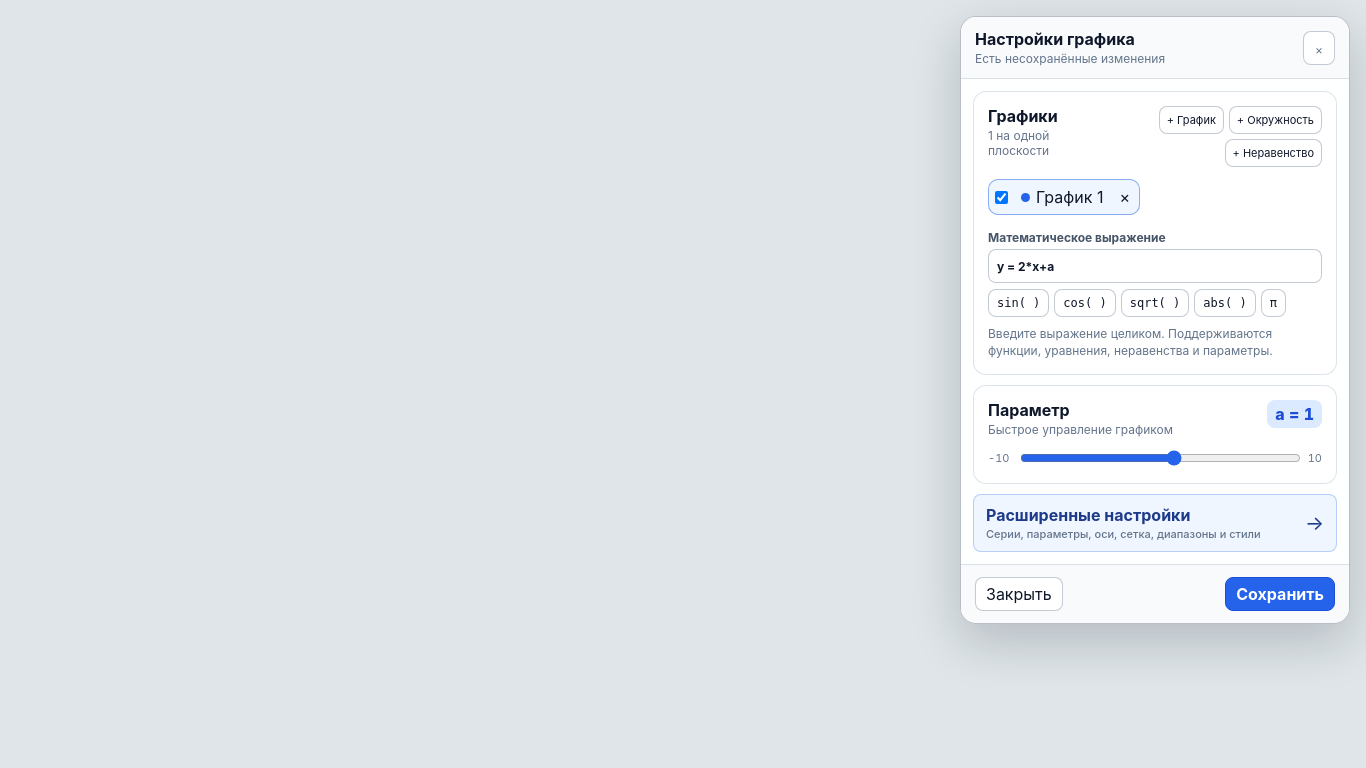
CoordinatePlotEditorPanel › supports WAI-ARIA tabs and localized enum values
This screenshot has width=1366, height=768.
Step 1. Click the button "Расширенные настройки" → (1155, 523), box x1=973 y1=494 x2=1337 y2=552
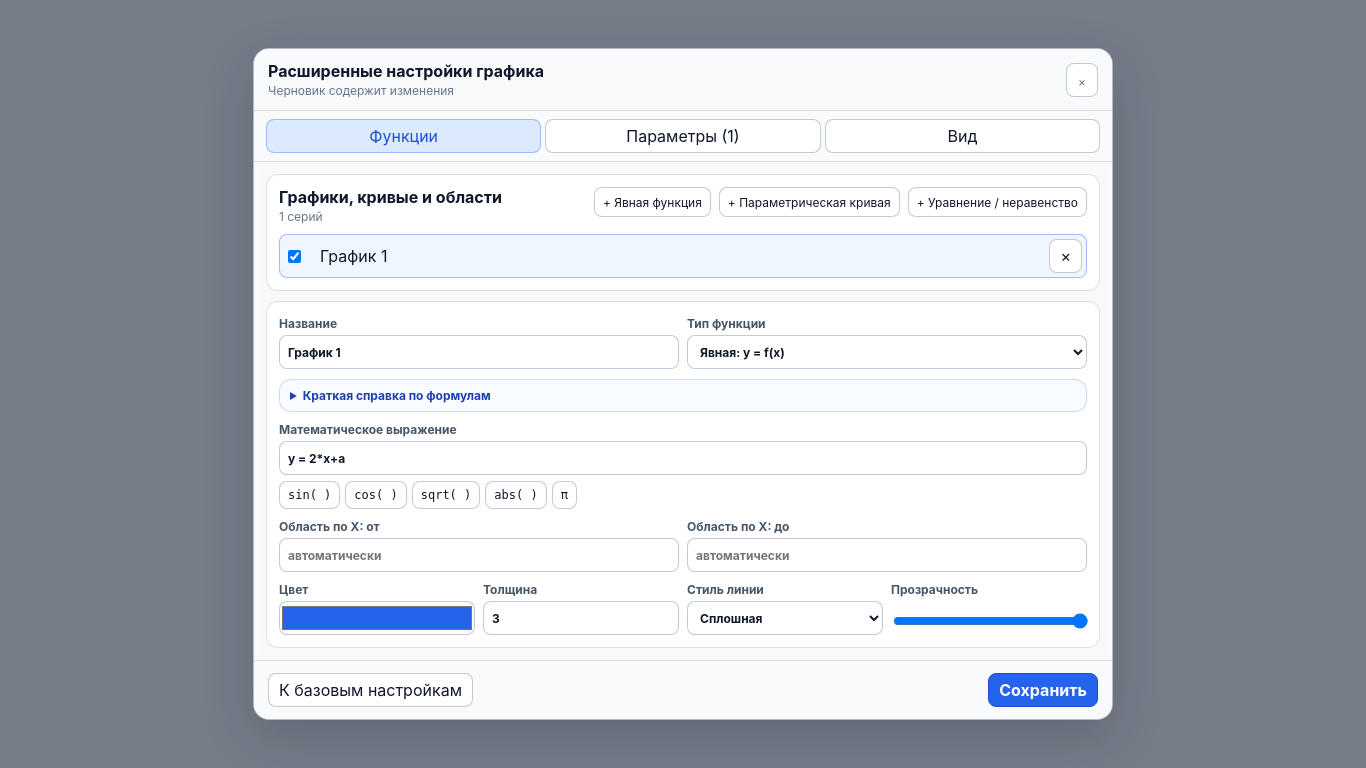
Step 2. Press ArrowRight in the tab "Функции", box x1=266 y1=119 x2=541 y2=153
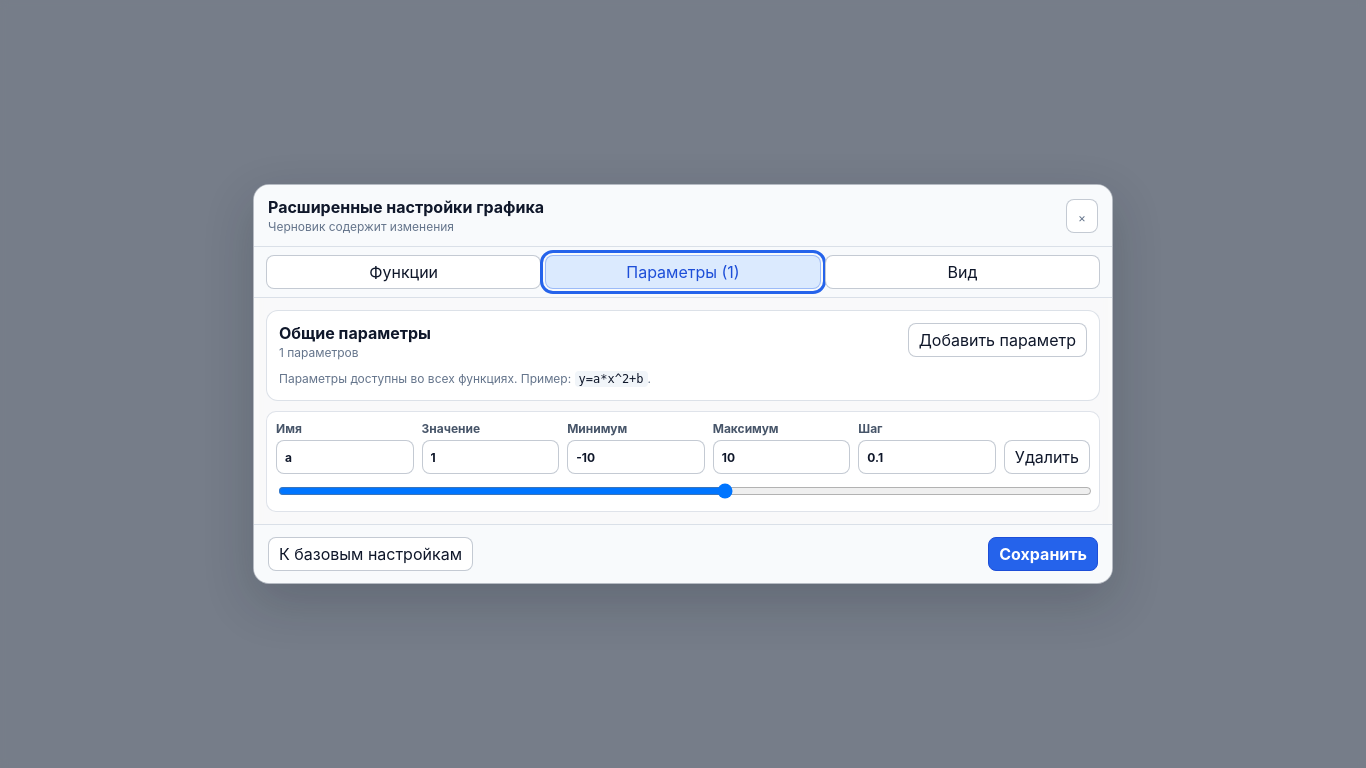
Check: the tab "Параметры (1)" is selected
Step 3. Press End in the tab "Параметры (1)", box x1=545 y1=255 x2=821 y2=289
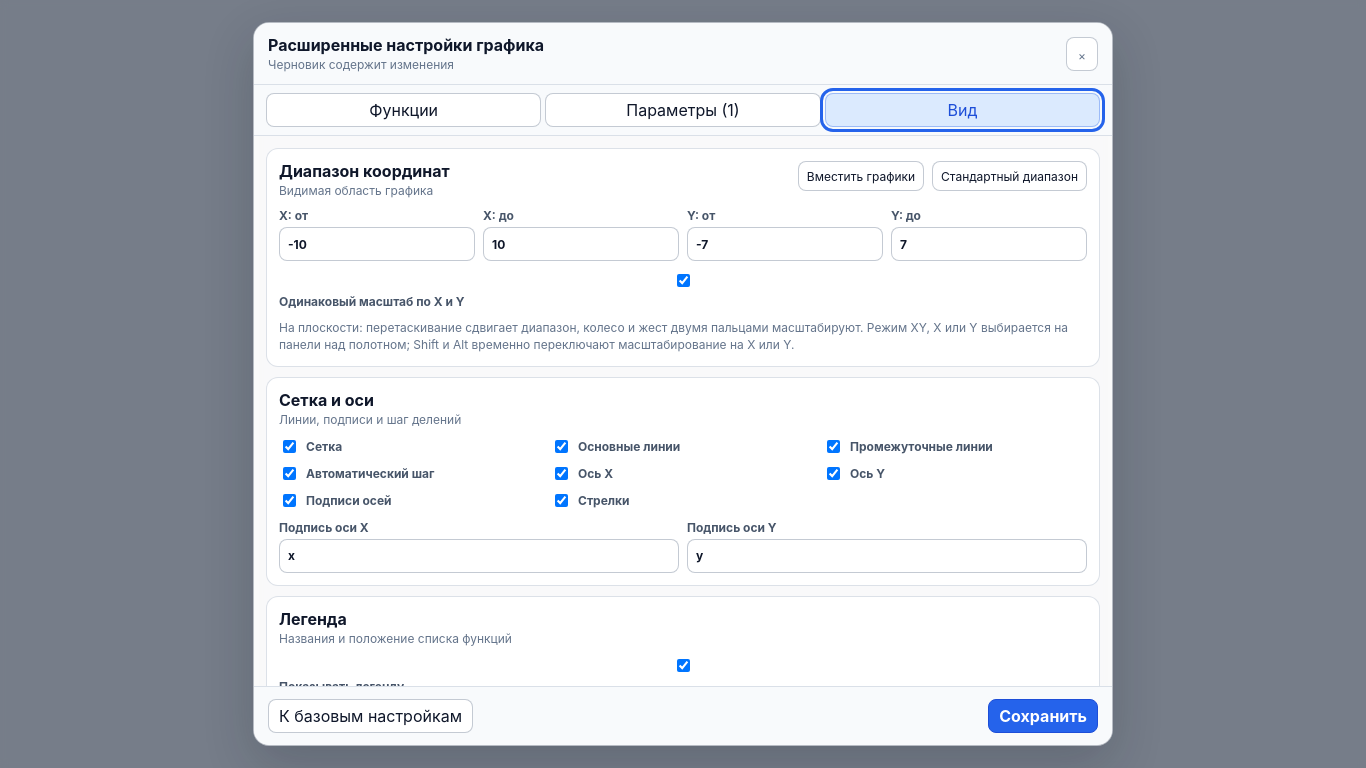
Check: the tab "Вид" is selected, box x1=825 y1=93 x2=1100 y2=127
Step 4. Click the tab "Функции" → (404, 110), box x1=266 y1=93 x2=541 y2=127
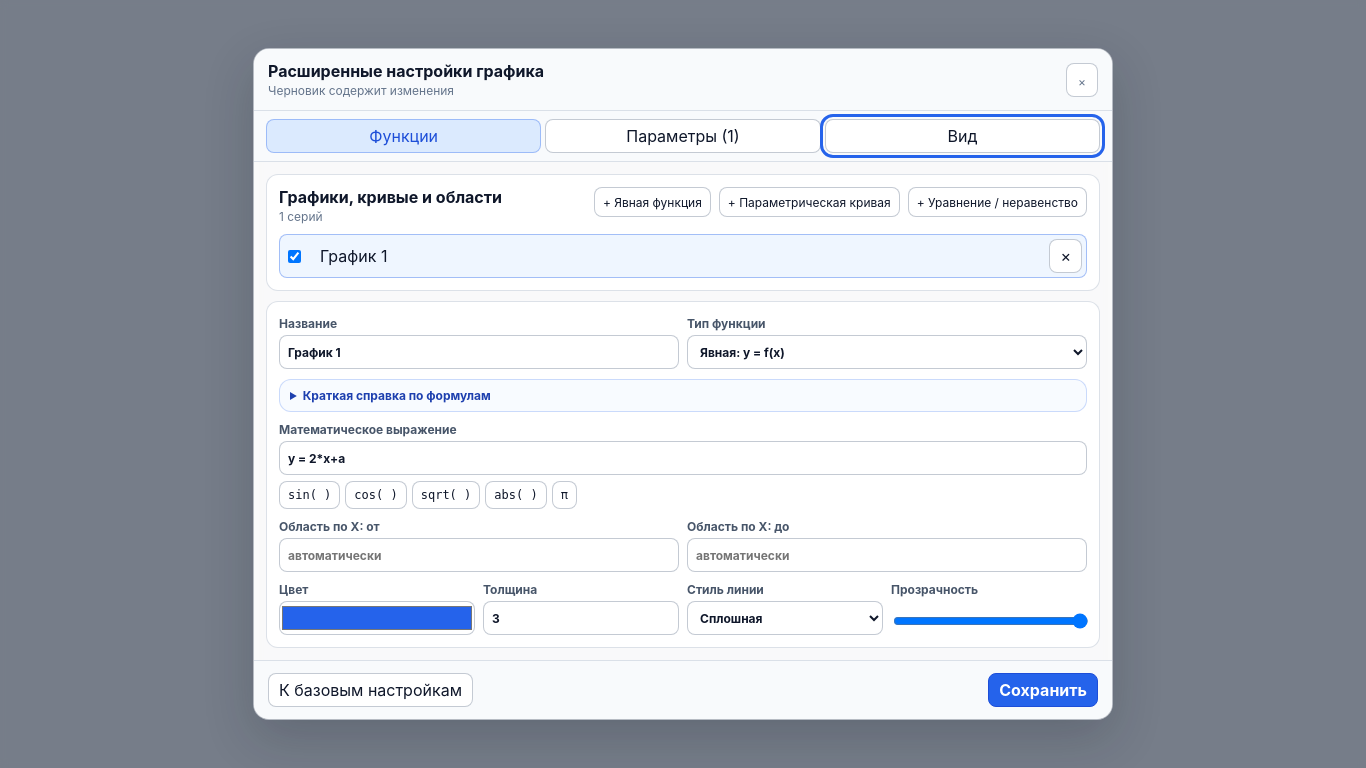
Step 5. Click the tab "Вид" → (962, 136), box x1=825 y1=119 x2=1100 y2=153
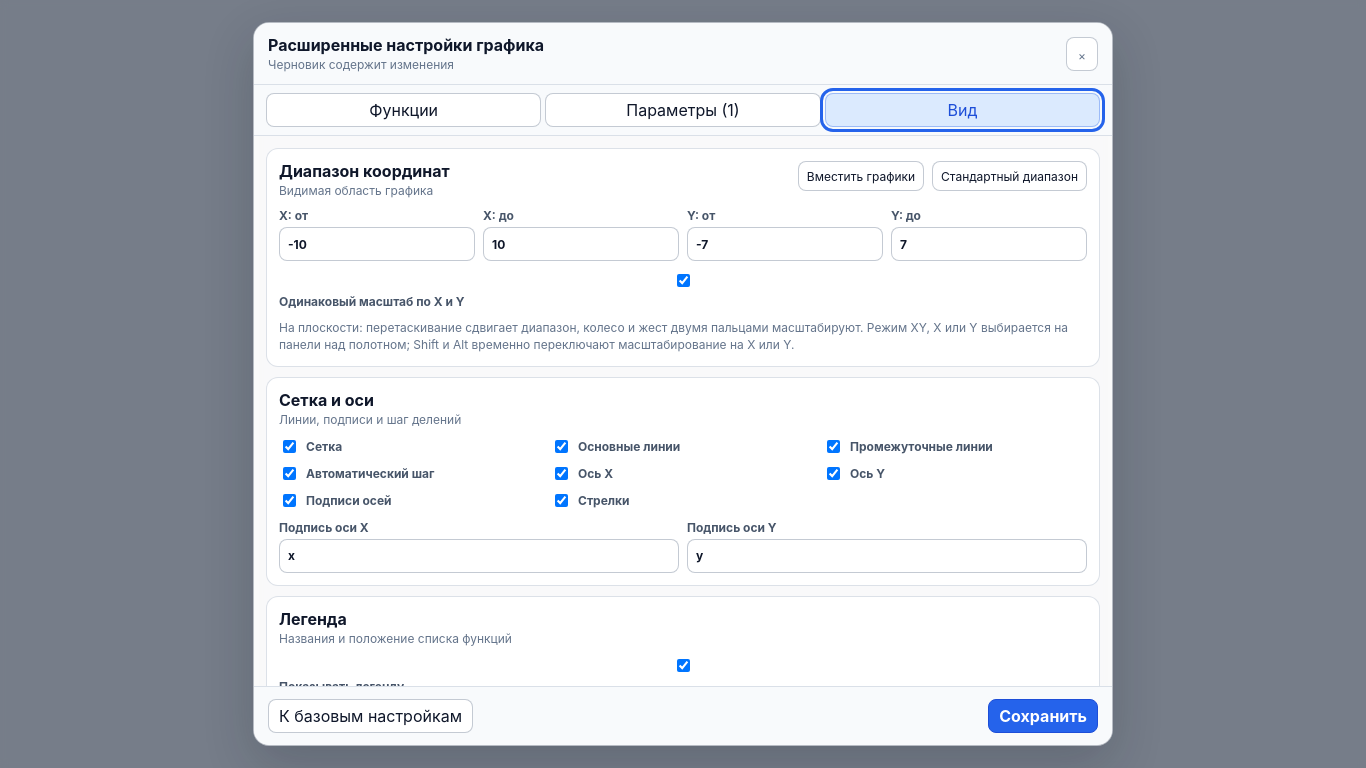
Check: the text "X: от" is shown, box x1=279 y1=208 x2=475 y2=261
Check: the text "Y: до" is shown, box x1=891 y1=208 x2=1087 y2=261
